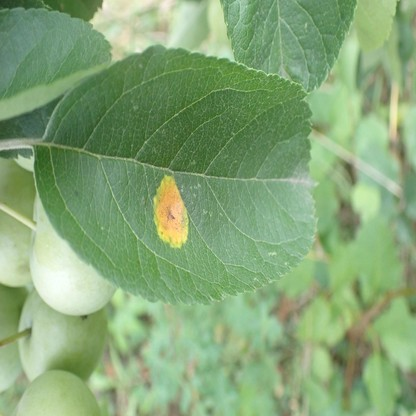rust: (155, 175, 188, 249)
